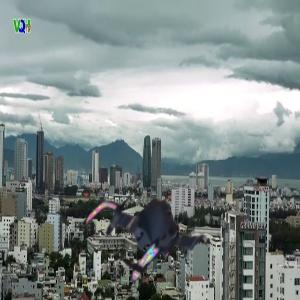drone: (84, 174, 208, 298)
